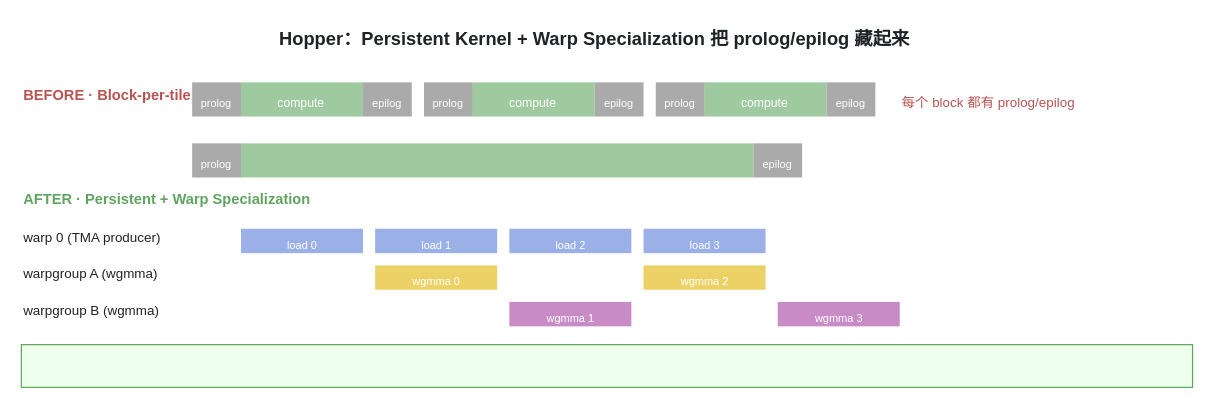
The diagram is 1214 pixels wide and 409 high, and some of its shapes have lost their labels. Each missing label, with the centre of its shape:
"持续 compute 多个 tile，prolog 仅一次" belongs at point (496, 160).
"这就是 DeepGEMM / FA3 上的 ping-pong：两个 warpgroup 交替算 → Tensor Core 永远忙" belongs at point (606, 365).
